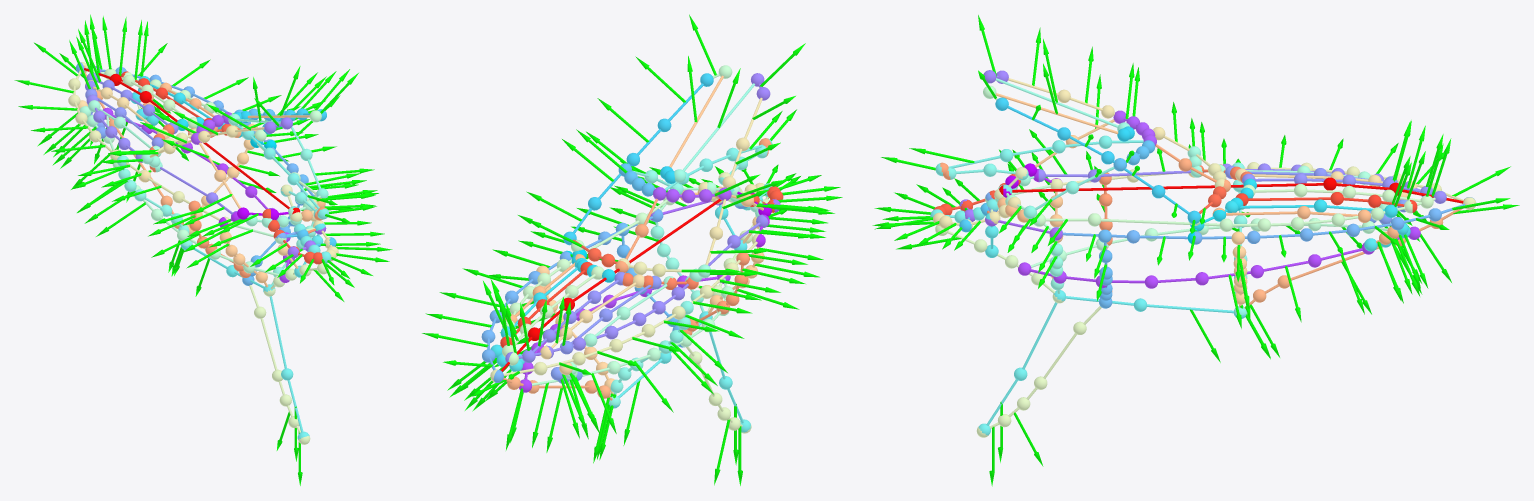
File: ils_boat.gltf
3 views of the same model, side by side, from view 1: azimuth 30°, elevation 25°; view 2: azimuth 150°, elevation 25°; view 3: azimuth 270°, elevation 25° (orthographic). The views are drawn at different scales.
Bounding box in the file's own units: 0.4375 × 0.7266 × 0.9592.
